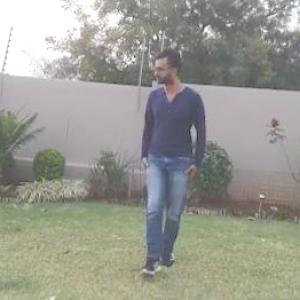follow: (135, 43, 211, 283)
